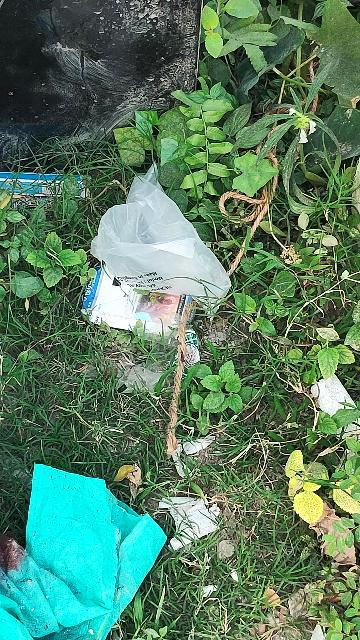polythene: (99, 192, 223, 311)
